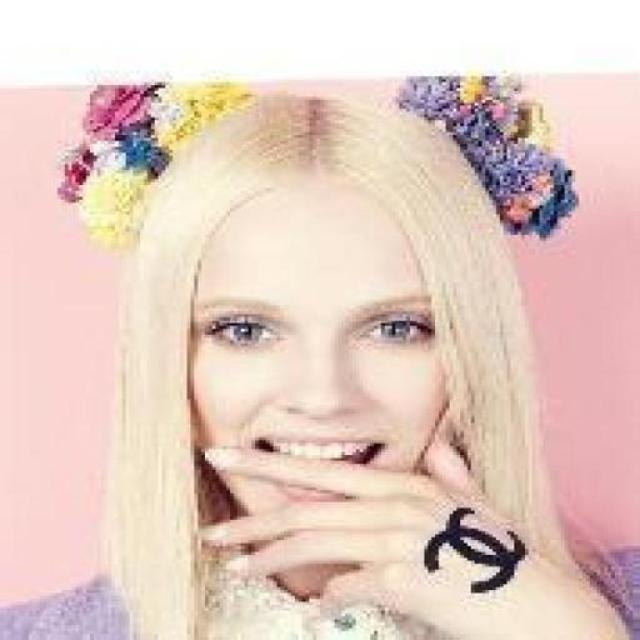bareface: (172, 118, 454, 526)
